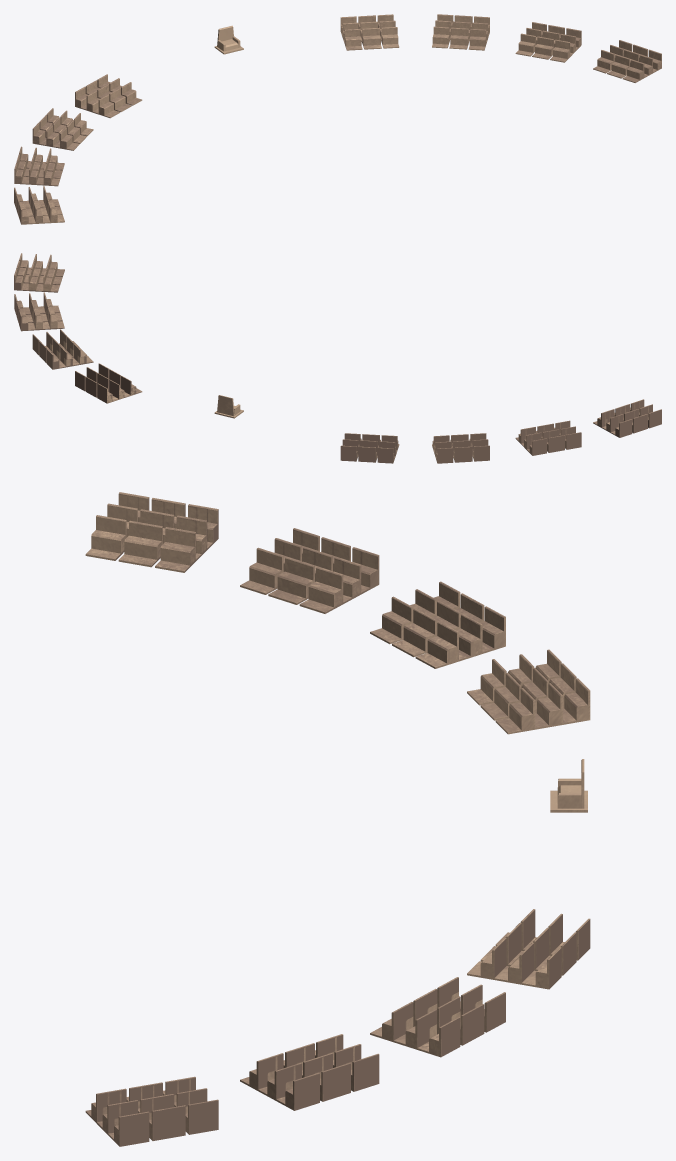
The model's file is seats.obj.
3 views of the same model, one above another, from view 1: azimuth 30°, elevation 25°; view 2: azimuth 150°, elevation 25°; view 3: azimuth 270°, elevation 25° (orthographic). The views are drawn at different scales.
Visible parts, largest first — view 1: spectator_seat_Cube.005_None; view 2: spectator_seat_Cube.005_None; view 3: spectator_seat_Cube.005_None.
Part boxes in pixels (x1,y1,x2,y2): spectator_seat_Cube.005_None: [14, 14, 661, 224]; spectator_seat_Cube.005_None: [14, 253, 661, 463]; spectator_seat_Cube.005_None: [85, 492, 590, 1146].
Bounding box in the file's own units: 19.33 × 0.9866 × 6.59.
Materials: 1 (1 with a texture image).
